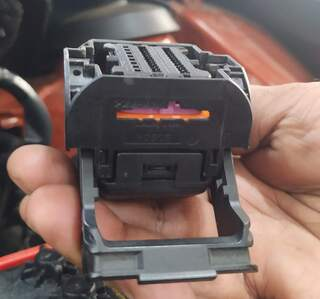connector: (62, 39, 253, 225)
